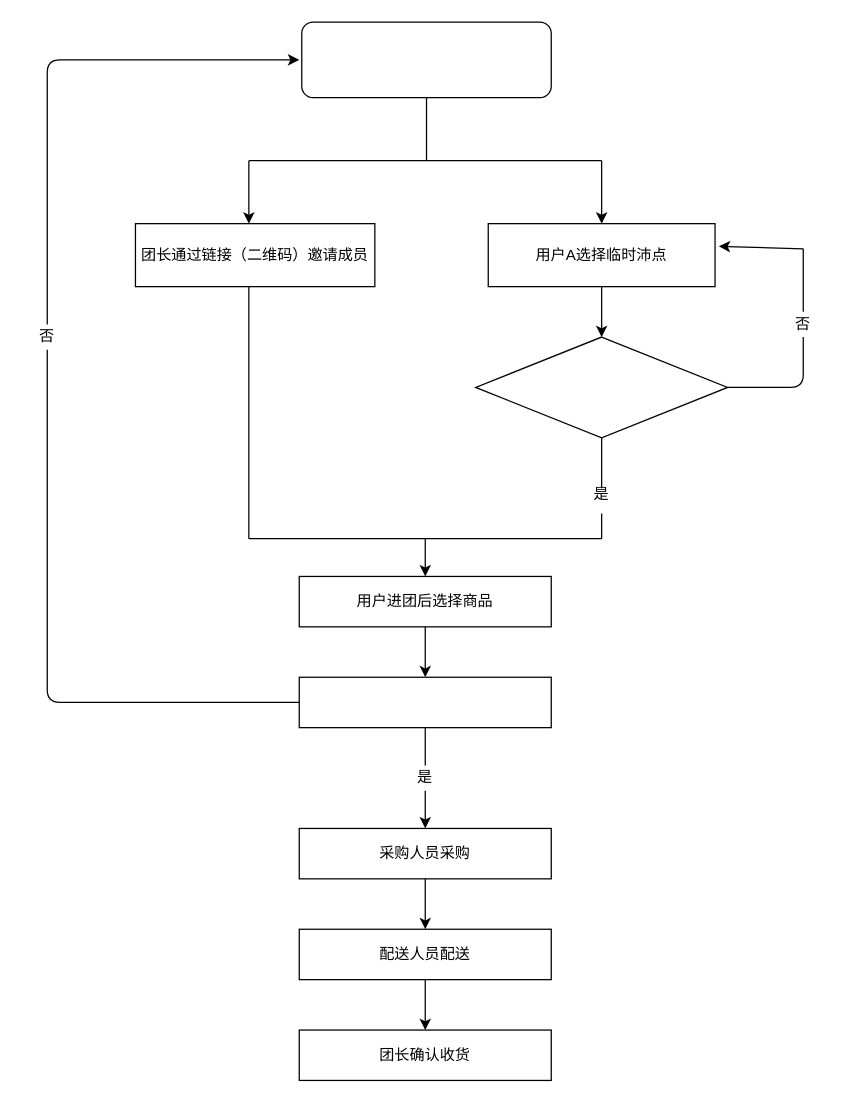
Some shapes in this 849 by 1103 pixel diagram are drawn without their labels. Here are the shapes that lost their labels. From the top down, the centre of each, then its label:
At (426,59): "团长开团，设置地点，确认时间".
At (601,387): "团长决定是否让用户A加入".
At (424,702): "时间范围内团人数>=5".
